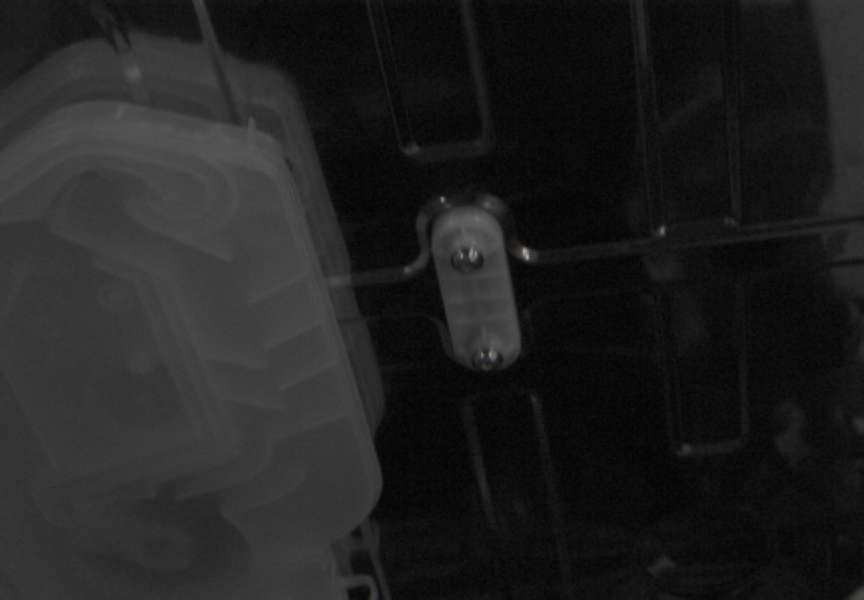screw: (451, 245, 484, 274), (472, 348, 504, 372)
